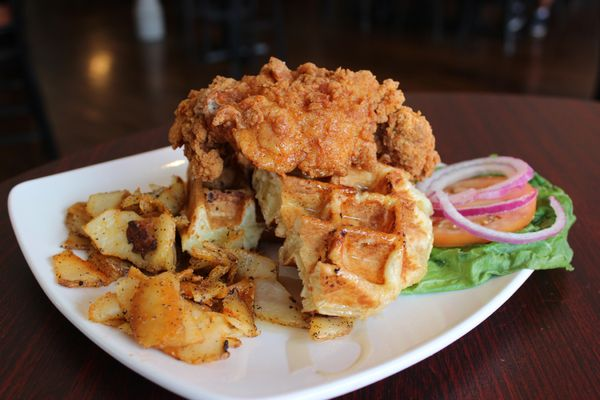soup: (166, 57, 440, 331)
